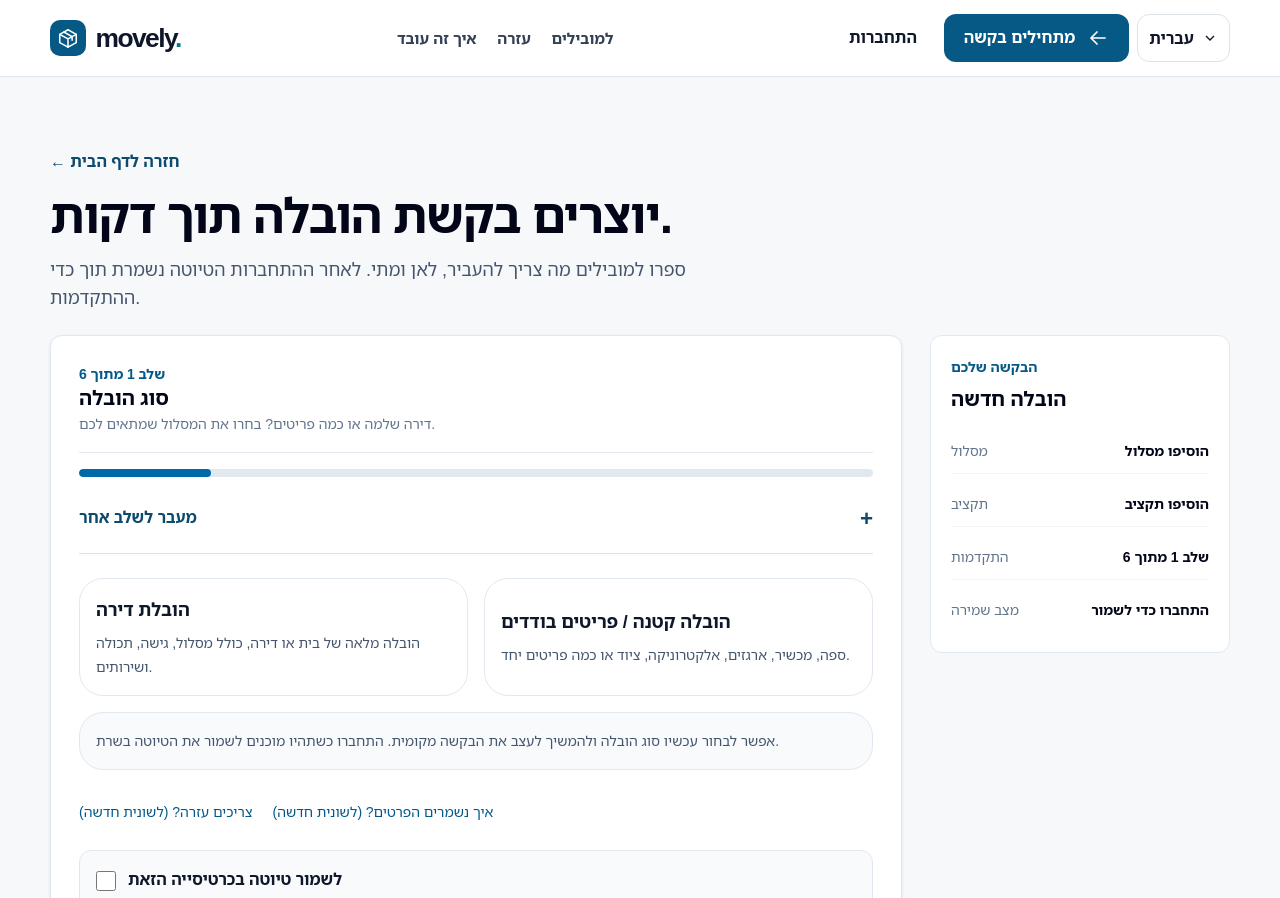
Test case: WIZARD-002 Customer can select Small Move.
Click the button "הובלה קטנה / פריטים בודדים ספה": coordinates (616, 621) x1=484 y1=578 x2=873 y2=696
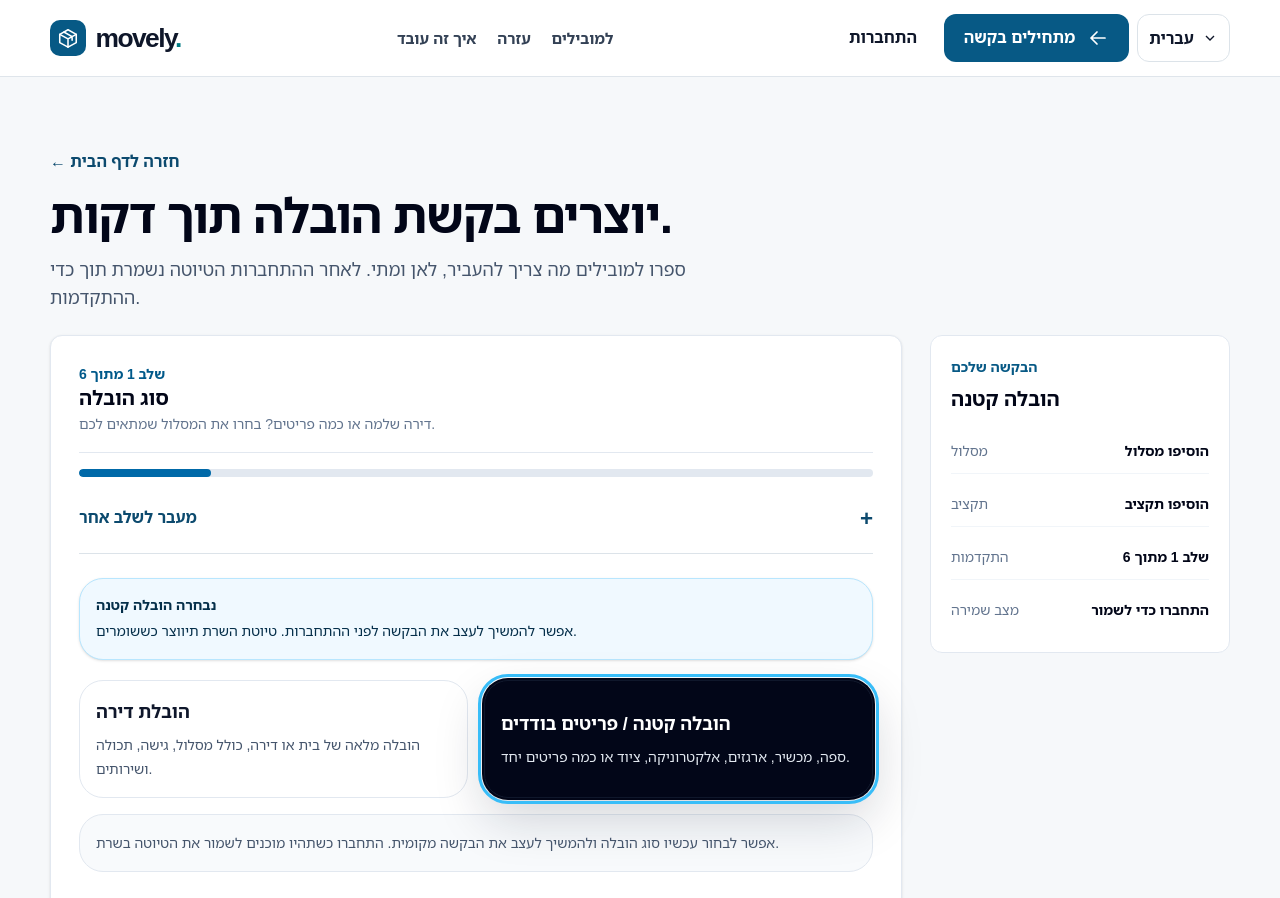
Expected: the text "נבחרה הובלה קטנה" is shown, x1=96 y1=595 x2=216 y2=614
